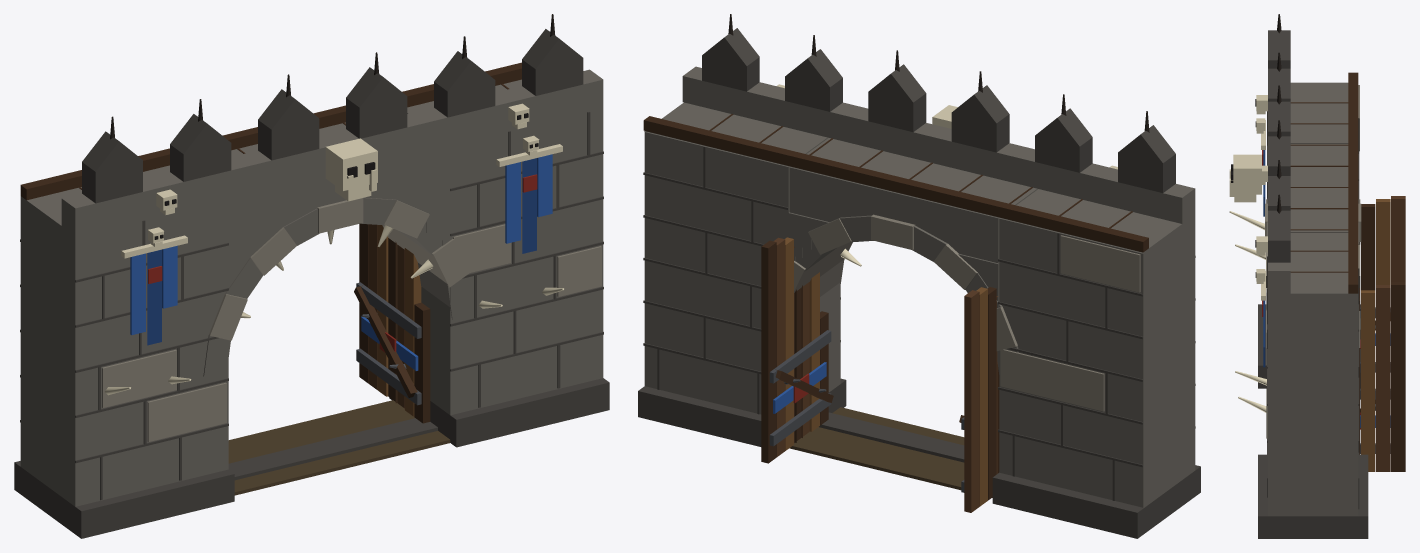
File: orc-stone-gate-open.glb
3 views of the same model, side by side, from view 1: azimuth 30°, elevation 25°; view 2: azimuth 150°, elevation 25°; view 3: azimuth 270°, elevation 25° (orthographic). The views are drawn at different scales.
Visible parts, largest first — view 1: orc-stone-gate-open; view 2: orc-stone-gate-open; view 3: orc-stone-gate-open.
Part boxes in pixels (x1,y1,x2,y2): orc-stone-gate-open: (14,14,609,538); orc-stone-gate-open: (638,14,1200,538); orc-stone-gate-open: (1229,14,1405,538).
Size of the model in its own units: 10 by 7.27 by 3.51.
1 material, 1 textured.
